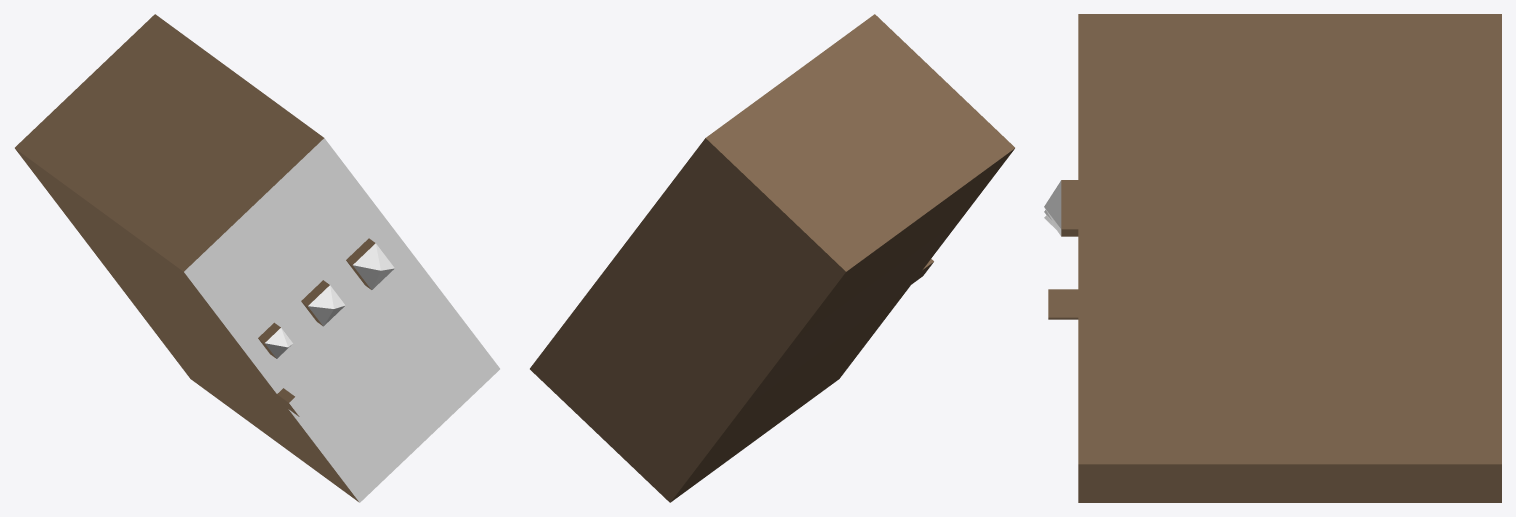
The picture shows the model from 3 angles, left to right: view 1: azimuth 30°, elevation 25°; view 2: azimuth 150°, elevation 25°; view 3: azimuth 270°, elevation 25°; orthographic projection. The views are drawn at different scales.
Visible parts, largest first — view 1: City_PC-08689; view 2: City_PC-08689; view 3: City_PC-08689.
Part boxes in pixels (x1,y1,x2,y2): City_PC-08689: (15, 14, 499, 502); City_PC-08689: (530, 14, 1014, 502); City_PC-08689: (1044, 14, 1501, 502).
Size of the model in its own units: 1429 by 1611 by 1431.
